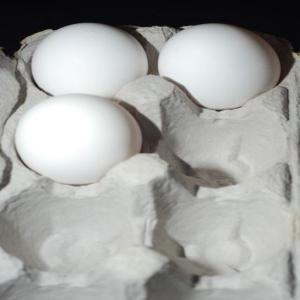Egg: (8, 89, 162, 198), (17, 13, 156, 106), (153, 18, 284, 110)
